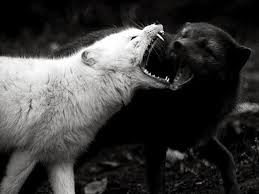Lobo: (29, 25, 168, 124), (164, 15, 252, 106)
